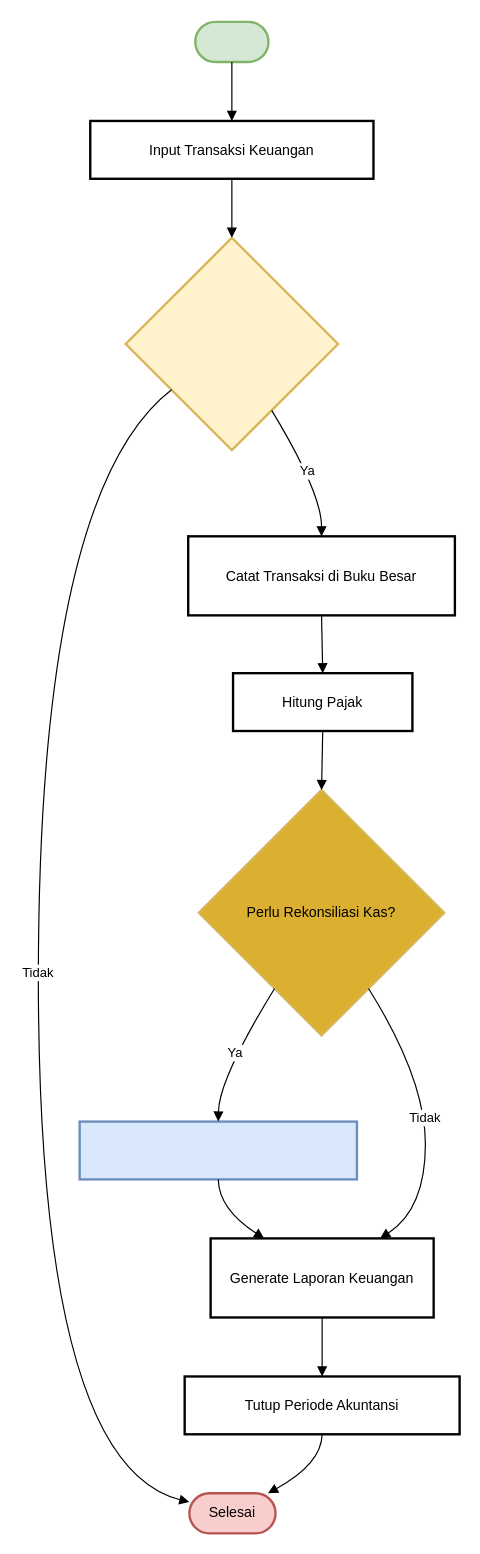
Some shapes in this 480 by 1554 pixel diagram are drawn without their labels. Each missing label, with the centre of its shape:
Lakukan Rekonsiliasi Kas: point 218,1150
Mulai: point 231,41
Validasi Transaksi?: point 231,343
